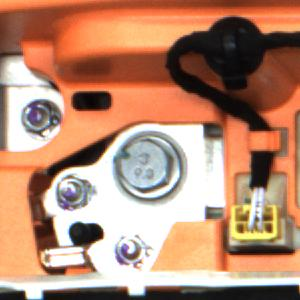nut_b: (108, 130, 188, 208)
screw_s: (52, 169, 92, 214), (15, 99, 60, 138), (111, 232, 152, 272)
